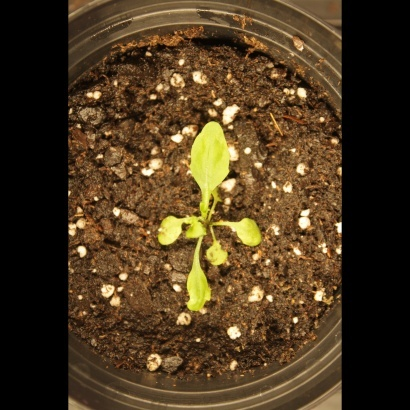leaf: (183, 116, 235, 206), (180, 258, 212, 317), (153, 210, 190, 253), (233, 214, 268, 251), (204, 236, 233, 267), (185, 216, 209, 243), (209, 184, 232, 207)
